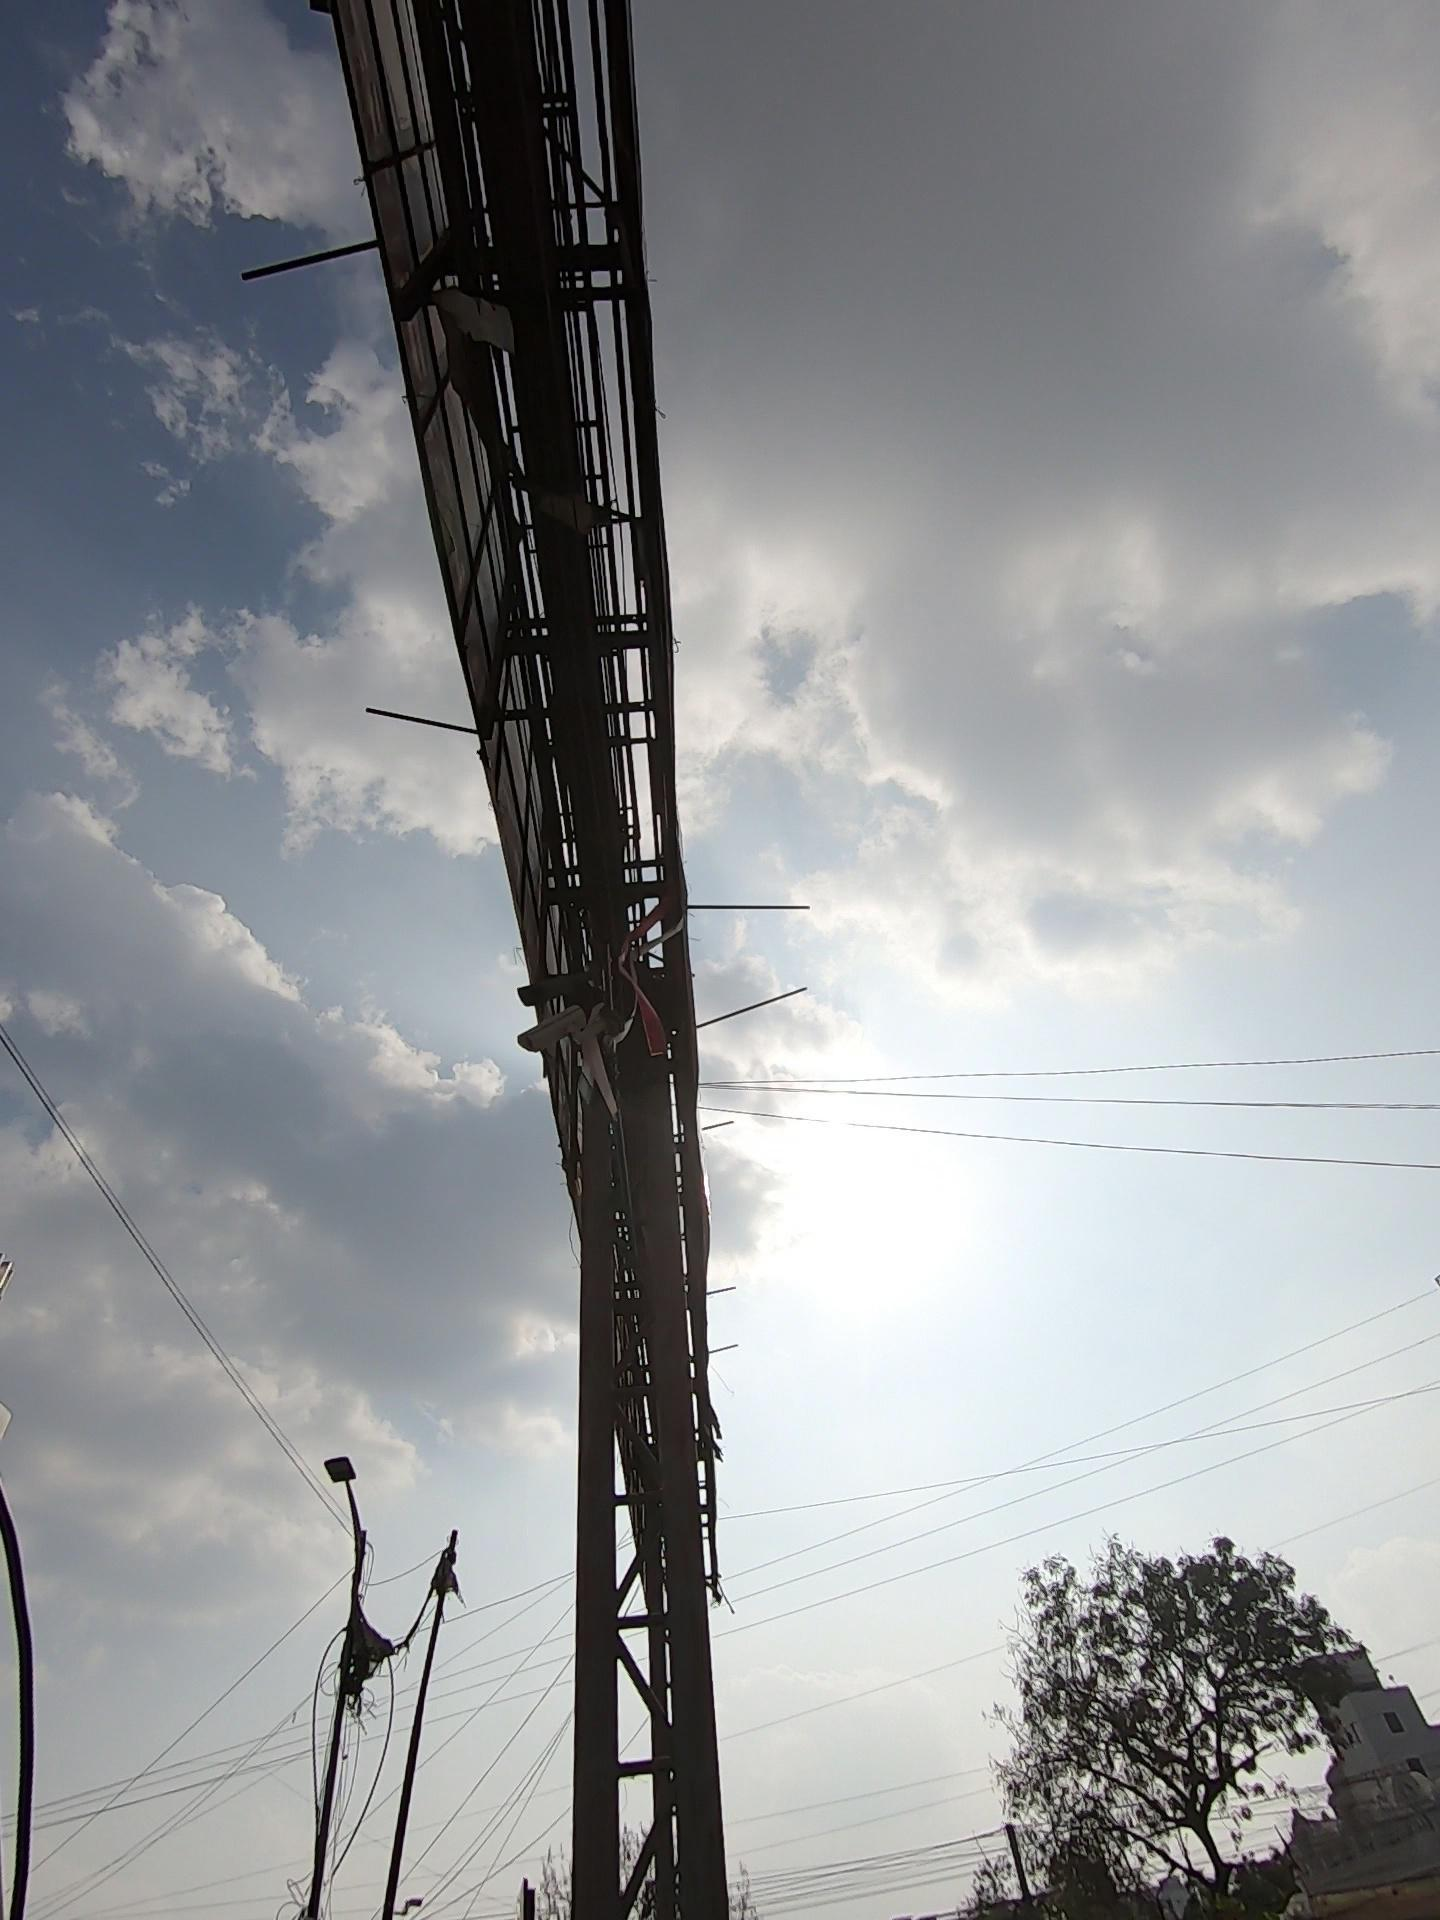off: (241, 1406, 540, 1668)
